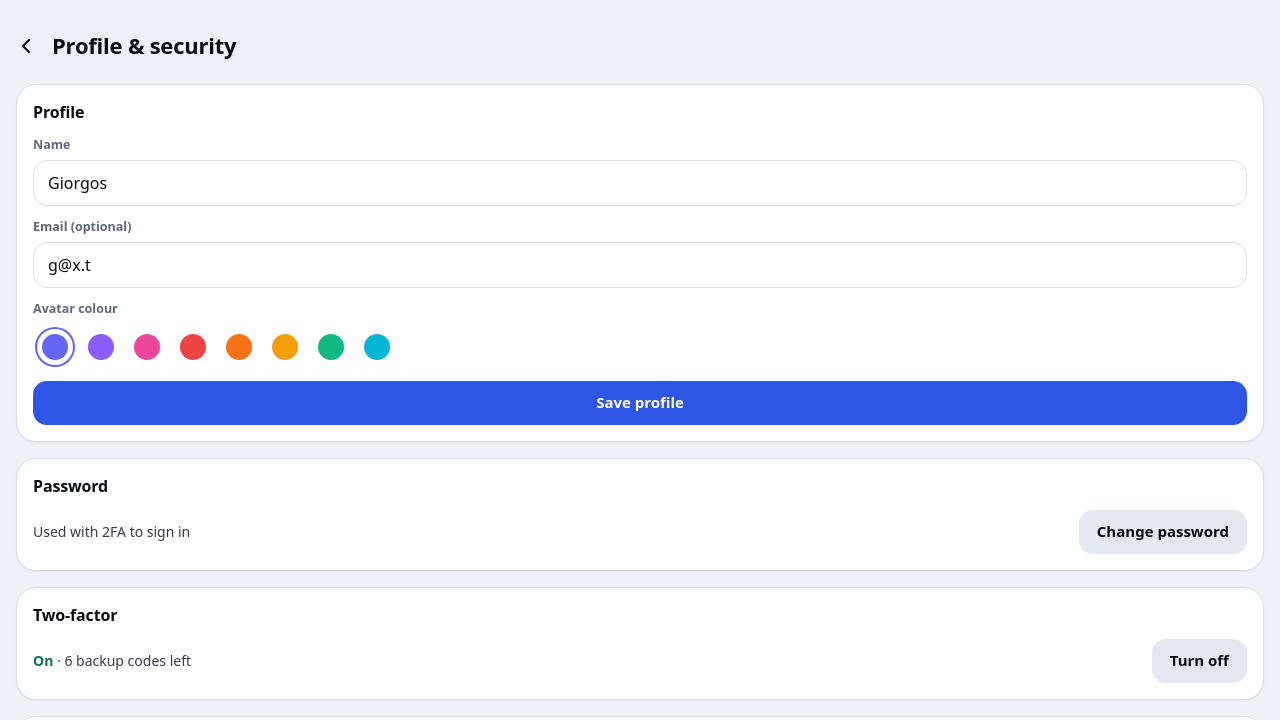
Scenario: Profile › after Turn off on a password session the Set up sheet opens
Expected: the text "On · 6 backup codes left" is shown, [33,651,191,671]
Step 1. Click the button "Turn off" → (1199, 661), box [1152,639,1247,683]
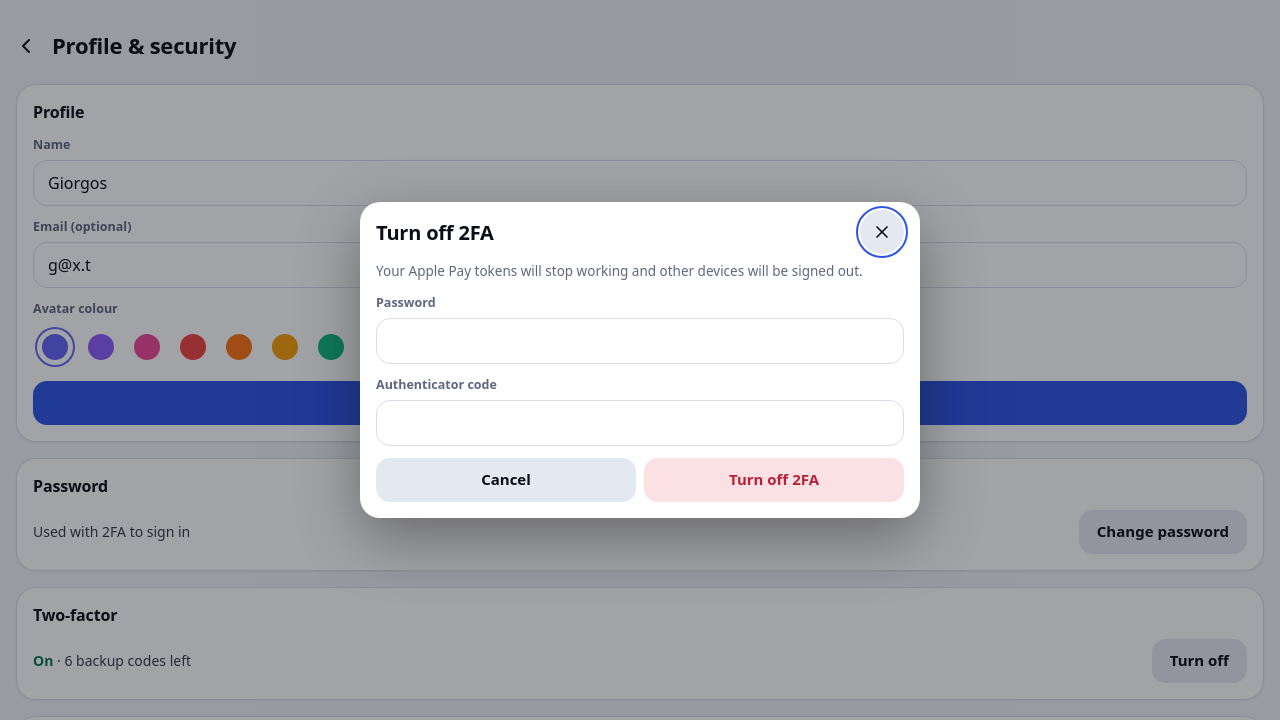
Step 2. Type "pw-123456789012" into the password field labelled "Password" → (640, 341), box [376,318,904,364]
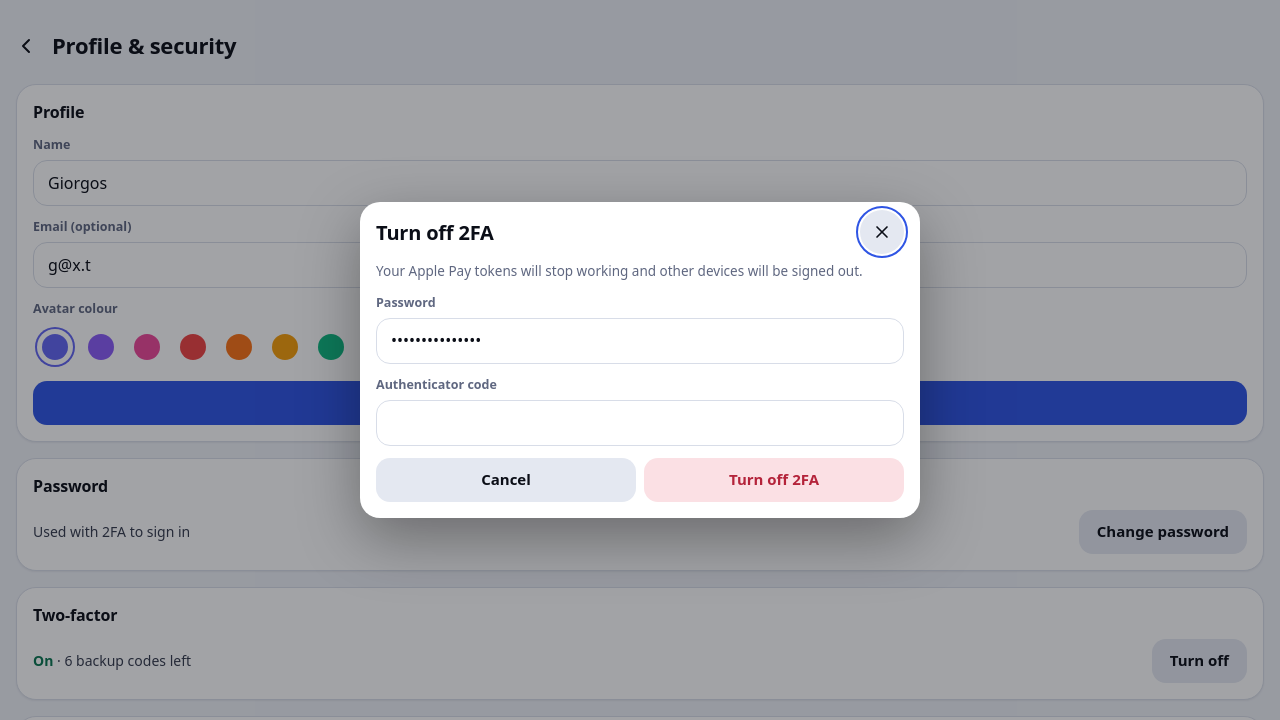
Step 3. Type "123456" into the field labelled "Authenticator code" → (640, 423), box [376,400,904,446]
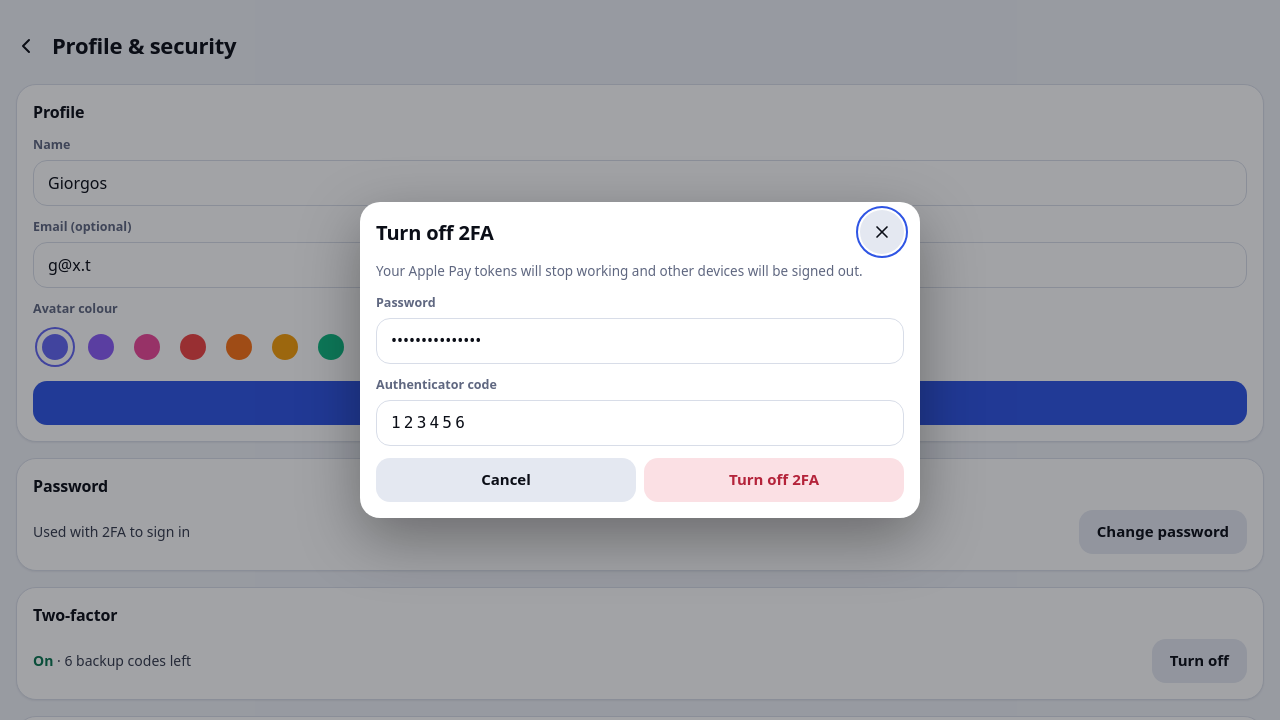
Step 4. Click the button "Turn off 2FA" → (774, 480), box [644,458,904,502]
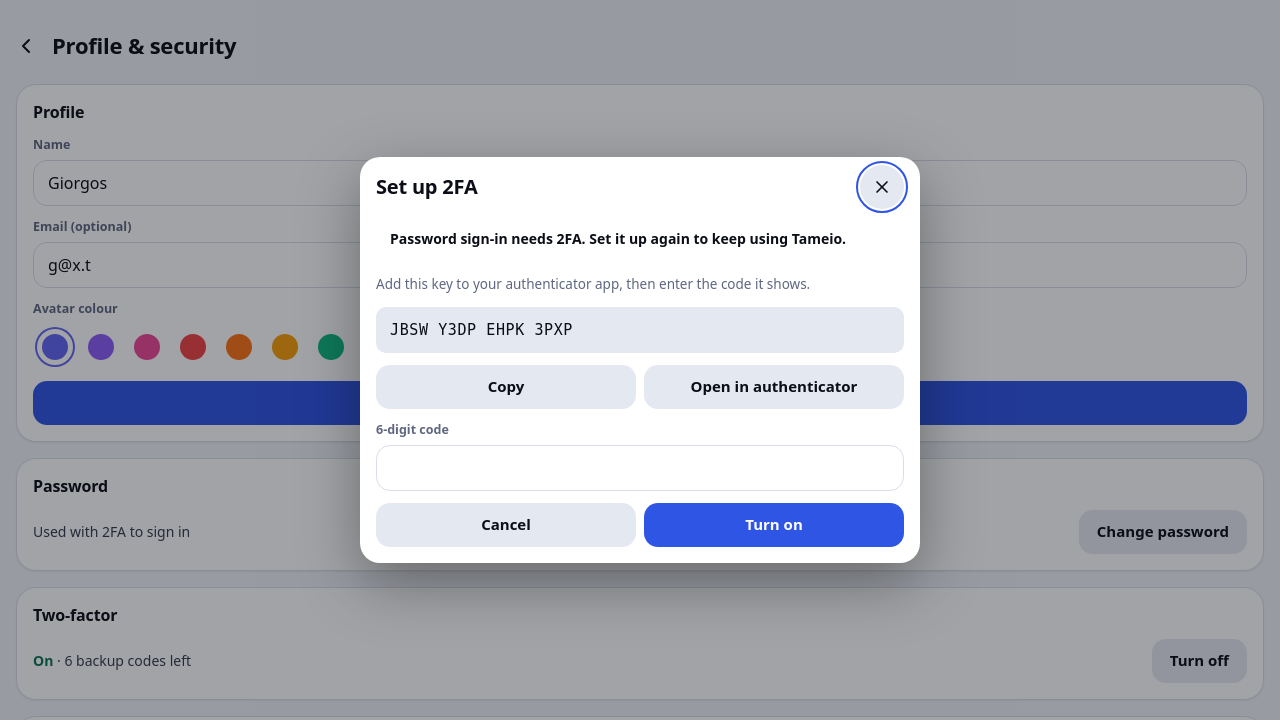
Now the text "Password sign-in needs 2FA. Set it up again to keep using Tameio." is shown, box [390,229,846,248]
